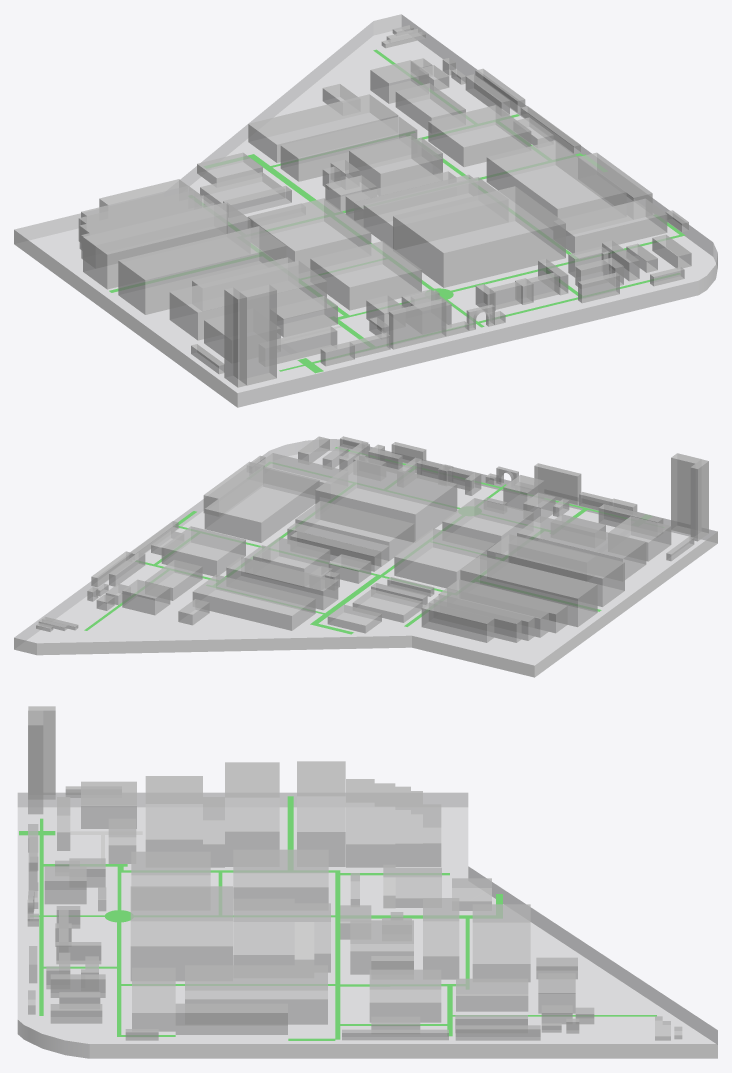
The picture shows the model from 3 angles, top to bottom: view 1: azimuth 30°, elevation 25°; view 2: azimuth 150°, elevation 25°; view 3: azimuth 270°, elevation 25°; orthographic projection. The views are drawn at different scales.
Visible parts, largest first — view 1: Root Node; view 2: Root Node; view 3: Root Node.
Boxes of the visible parts, <box> form: Root Node: <box>14,14,717,407</box>; Root Node: <box>14,436,717,677</box>; Root Node: <box>17,706,717,1058</box>.
Bounding box in the file's own units: 230 × 44.39 × 273.
